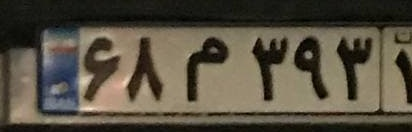character: (176, 29, 238, 106), (246, 30, 293, 108), (123, 28, 168, 109), (332, 29, 375, 108), (291, 29, 330, 104), (81, 30, 118, 105)
